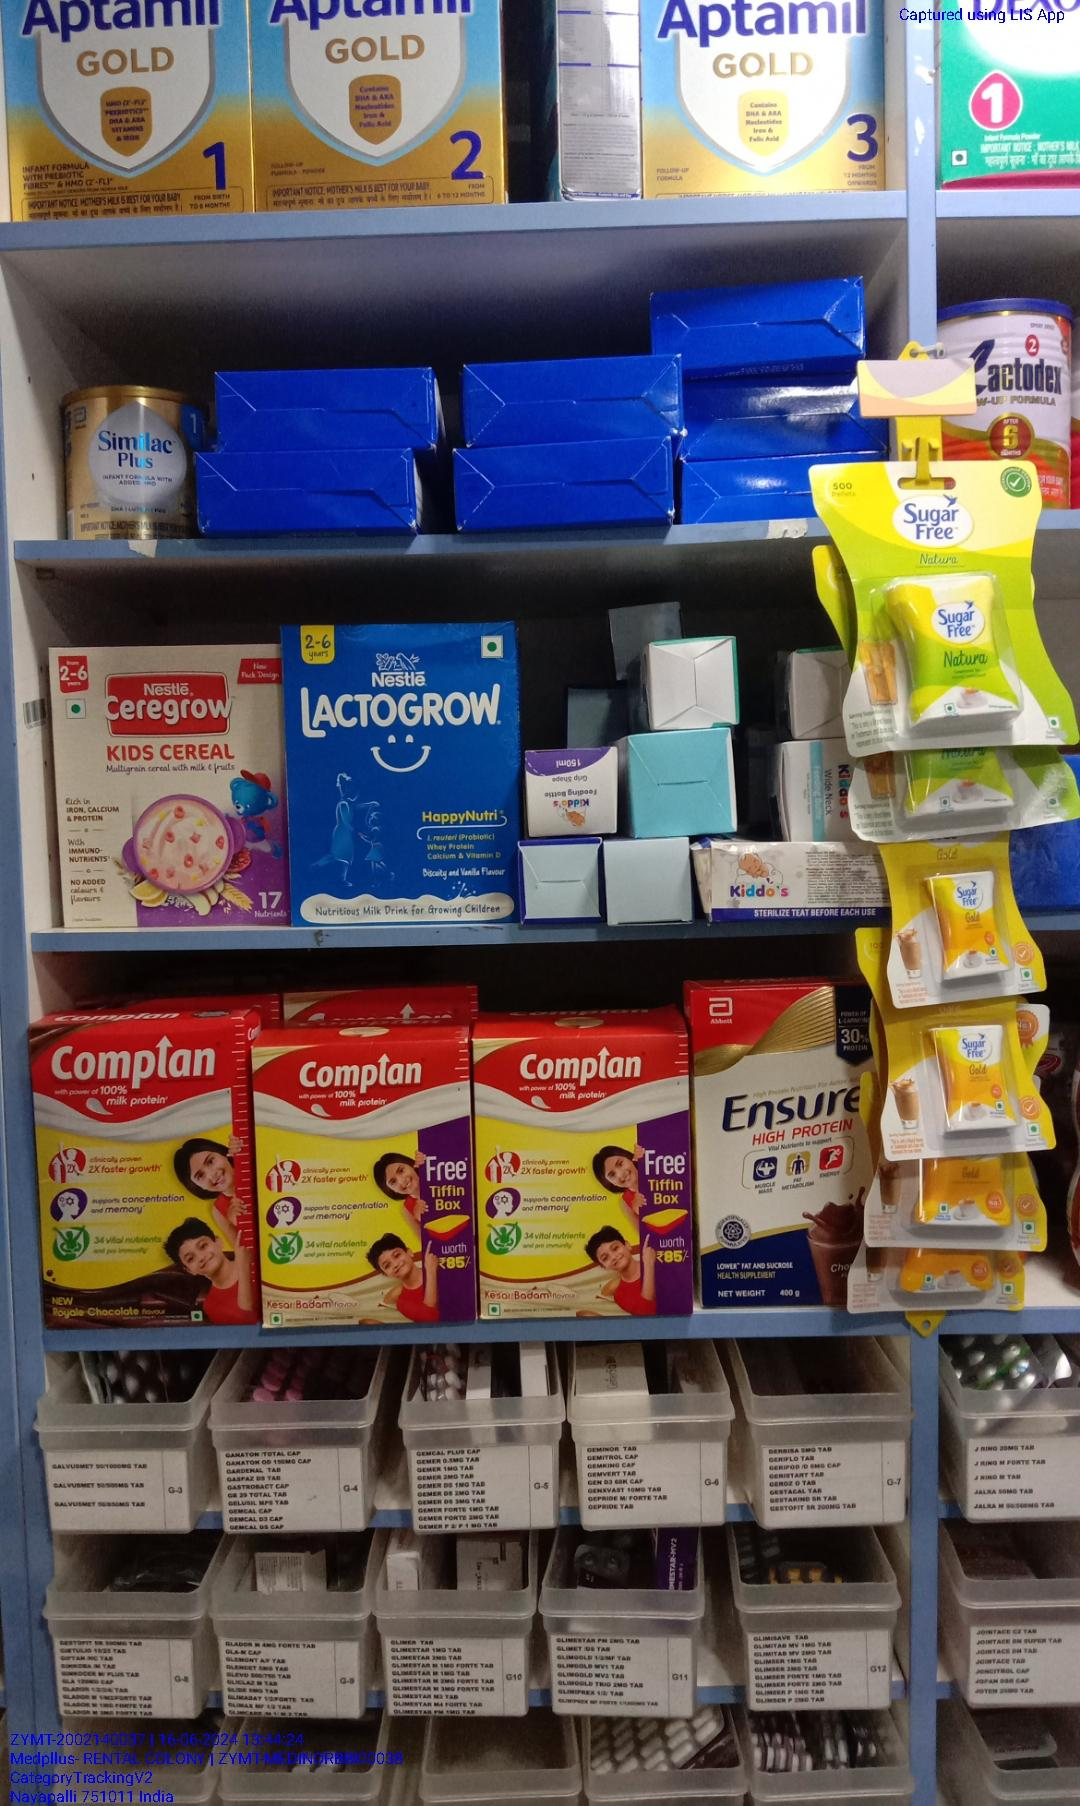COMPLAN_KESAR_BADAM_500_GMS_PACK: (474, 1033, 688, 1312)
